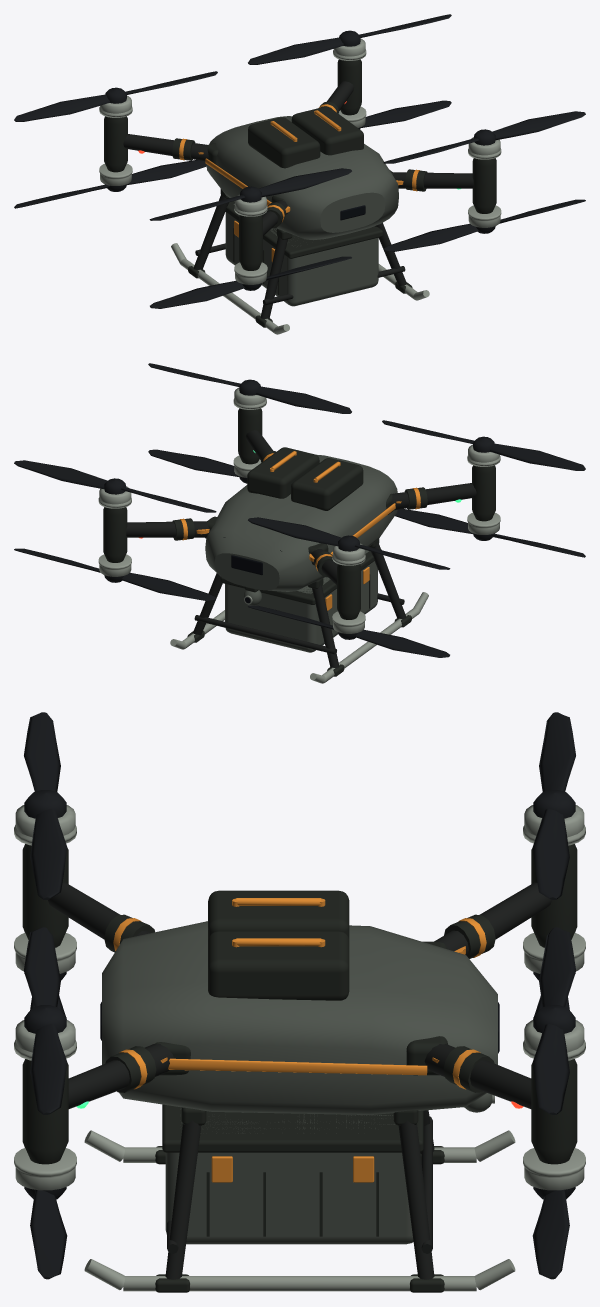
The model's file is flycart200.glb.
3 renders of one model, top to bottom at view 1: azimuth 30°, elevation 25°; view 2: azimuth 150°, elevation 25°; view 3: azimuth 270°, elevation 25°, orthographic. The views are drawn at different scales.
Parts seen in each view (by area): view 1: m-flycart200-shell, m-flycart200-dark, m-cargo_box-shell, m-flycart200-metal, m-flycart200-carbon, m-gear-carbon, m-prop_1-rotor, m-prop_4-rotor, m-prop_3-rotor, m-prop_2-rotor, m-cargo_box-dark, m-prop_7-rotor (+6 smaller); view 2: m-flycart200-shell, m-flycart200-dark, m-cargo_box-shell, m-flycart200-metal, m-gear-carbon, m-flycart200-carbon, m-prop_3-rotor, m-prop_2-rotor, m-prop_1-rotor, m-prop_4-rotor, m-prop_8-rotor, m-prop_6-rotor (+7 smaller); view 3: m-flycart200-shell, m-flycart200-dark, m-cargo_box-shell, m-flycart200-metal, m-cargo_box-dark, m-flycart200-carbon, m-gear-metal, m-gear-carbon, m-flycart200-accent, m-prop_1-rotor, m-prop_2-rotor, m-prop_3-rotor (+5 smaller).
Part boxes in pixels (bbox=[...]): m-flycart200-shell: bbox=[206, 116, 398, 240]; m-flycart200-dark: bbox=[104, 59, 496, 270]; m-cargo_box-shell: bbox=[225, 203, 378, 306]; m-flycart200-metal: bbox=[99, 38, 501, 284]; m-flycart200-carbon: bbox=[123, 81, 473, 235]; m-gear-carbon: bbox=[193, 194, 406, 318]; m-prop_1-rotor: bbox=[383, 111, 585, 163]; m-prop_4-rotor: bbox=[14, 71, 217, 121]; m-prop_3-rotor: bbox=[149, 168, 351, 220]; m-prop_2-rotor: bbox=[248, 14, 451, 64]; m-cargo_box-dark: bbox=[225, 201, 382, 295]; m-prop_7-rotor: bbox=[150, 256, 351, 308]; m-flycart200-shell: bbox=[205, 454, 397, 591]; m-flycart200-dark: bbox=[103, 408, 495, 619]; m-cargo_box-shell: bbox=[225, 550, 377, 652]; m-flycart200-metal: bbox=[98, 387, 500, 633]; m-gear-carbon: bbox=[193, 543, 406, 667]; m-flycart200-carbon: bbox=[126, 430, 476, 584]; m-prop_3-rotor: bbox=[382, 420, 585, 470]; m-prop_2-rotor: bbox=[14, 460, 216, 512]; m-prop_1-rotor: bbox=[148, 363, 351, 413]; m-prop_4-rotor: bbox=[248, 517, 450, 569]; m-prop_8-rotor: bbox=[248, 605, 449, 657]; m-prop_6-rotor: bbox=[14, 548, 216, 600]; m-flycart200-shell: bbox=[102, 921, 497, 1114]; m-flycart200-dark: bbox=[22, 844, 577, 1164]; m-cargo_box-shell: bbox=[165, 1108, 413, 1244]; m-flycart200-metal: bbox=[14, 805, 585, 1190]; m-cargo_box-dark: bbox=[162, 1104, 423, 1236]; m-flycart200-carbon: bbox=[48, 882, 551, 1108]; m-gear-metal: bbox=[84, 1130, 515, 1291]; m-gear-carbon: bbox=[165, 1110, 434, 1279]; m-flycart200-accent: bbox=[113, 898, 486, 1089]; m-prop_1-rotor: bbox=[24, 927, 67, 1114]; m-prop_2-rotor: bbox=[532, 927, 575, 1114]; m-prop_3-rotor: bbox=[24, 712, 67, 899].
Size of the model in its own units: 2.68 by 1.02 by 1.62.
